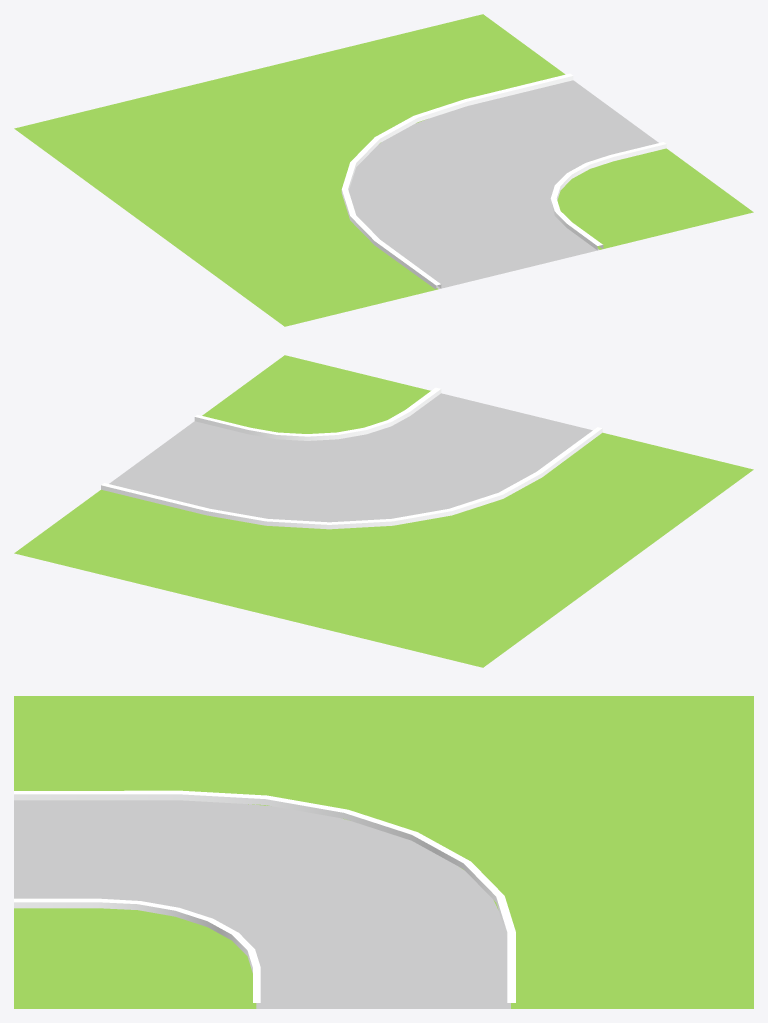
Rendered from Sidewalk_25.glb.
The picture shows the model from 3 angles, top to bottom: view 1: azimuth 30°, elevation 25°; view 2: azimuth 150°, elevation 25°; view 3: azimuth 270°, elevation 25°; orthographic projection. The views are drawn at different scales.
Parts seen in each view (by area): view 1: Sidewalk_25; view 2: Sidewalk_25; view 3: Sidewalk_25.
Part boxes in pixels (x1,y1,x2,y2): Sidewalk_25: (14,14,753,326); Sidewalk_25: (14,355,753,667); Sidewalk_25: (14,696,753,1008).
Bounding box in the file's own units: 15 × 0.1333 × 15.
Materials: 1 (1 with a texture image).
